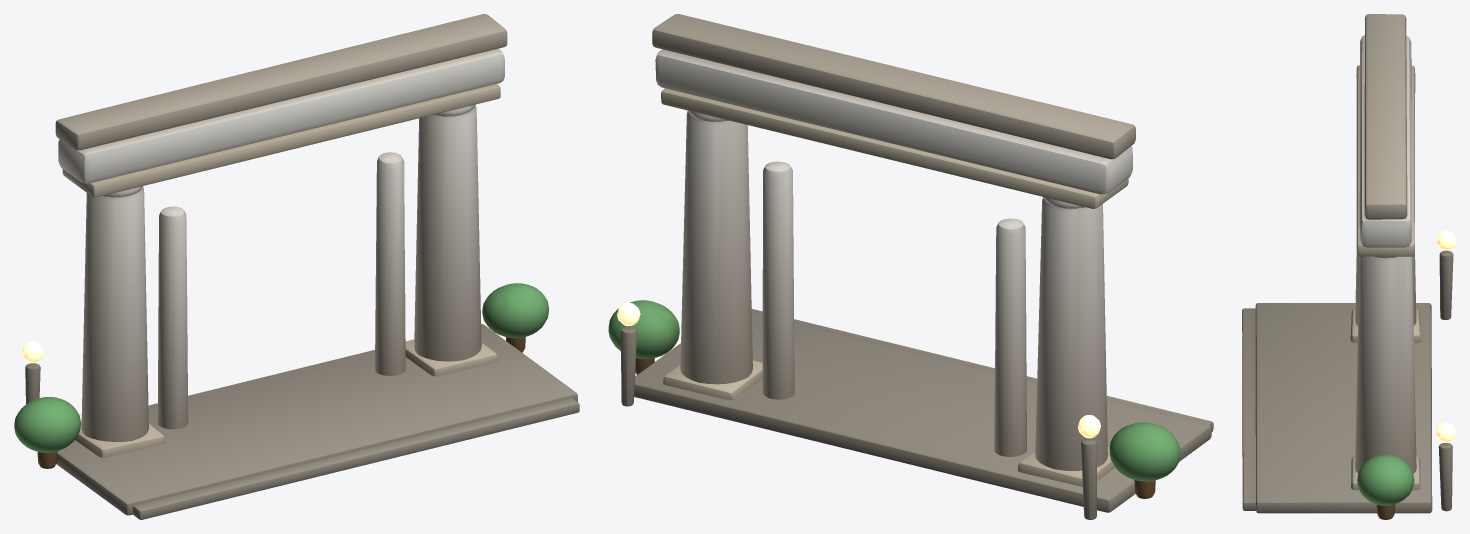
3 views of the same model, side by side, from view 1: azimuth 30°, elevation 25°; view 2: azimuth 150°, elevation 25°; view 3: azimuth 270°, elevation 25° (orthographic). The views are drawn at different scales.
Parts seen in each view (by area): view 1: gate_664f1074; view 2: gate_664f1074; view 3: gate_664f1074.
Boxes of the visible parts, left/top/right/bottom form: gate_664f1074: left=14, top=14, right=579, bottom=519; gate_664f1074: left=608, top=14, right=1213, bottom=519; gate_664f1074: left=1242, top=14, right=1455, bottom=519.
Size of the model in its own units: 6.61 by 4.04 by 2.55.
